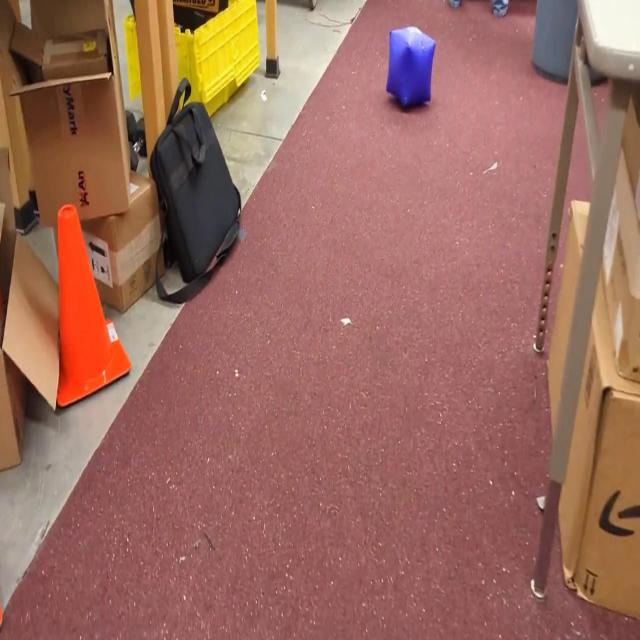frc_cube: (386, 23, 437, 111)
